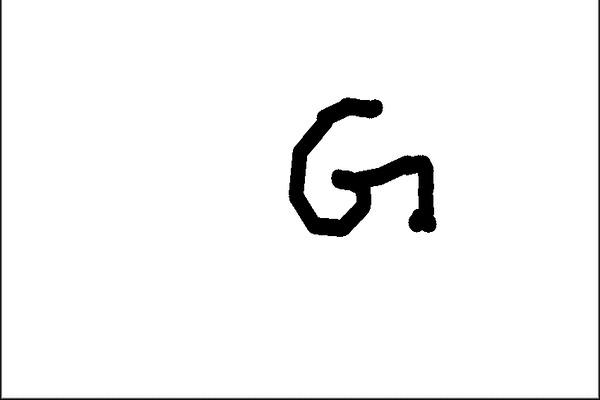G: (285, 92, 442, 243)
